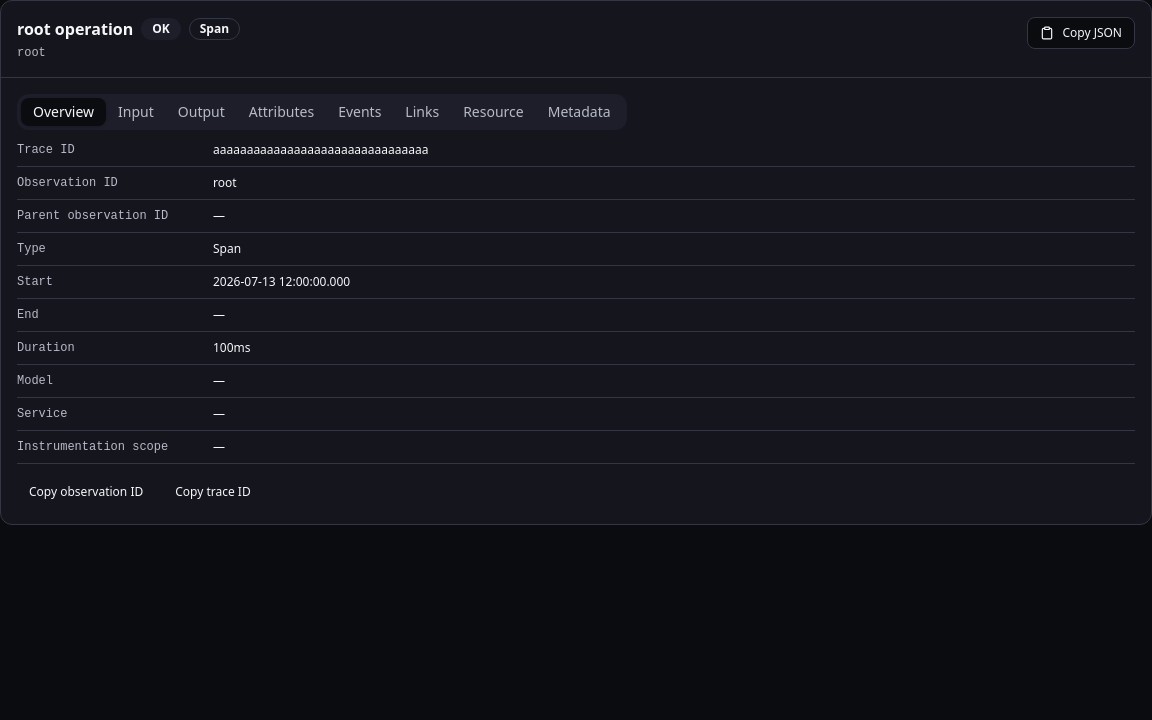
Test: ObservationDetailPanel JSON tree › renders event, link, and resource objects as expandable JSON
This screenshot has width=1152, height=720.
Click the tab "Events".
click(360, 112)  # box 326,98 -> 393,126
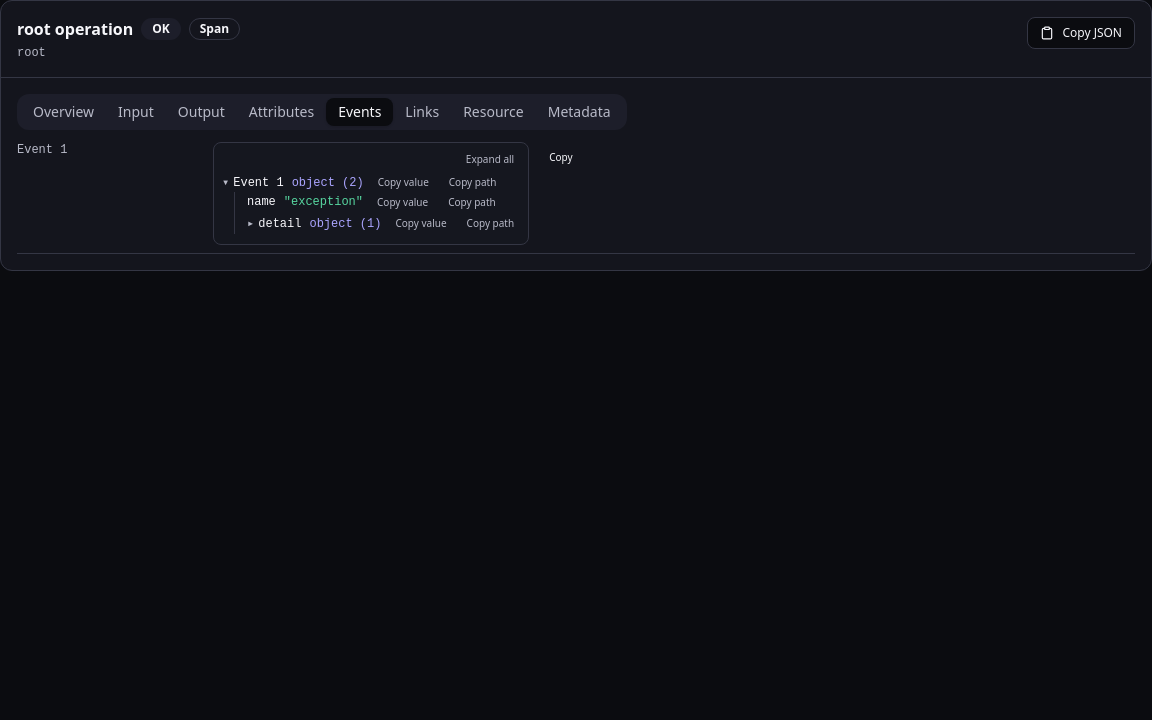
Click the button with aria-label "Expand $.detail".
click(274, 224)  # box 247,216 -> 302,232
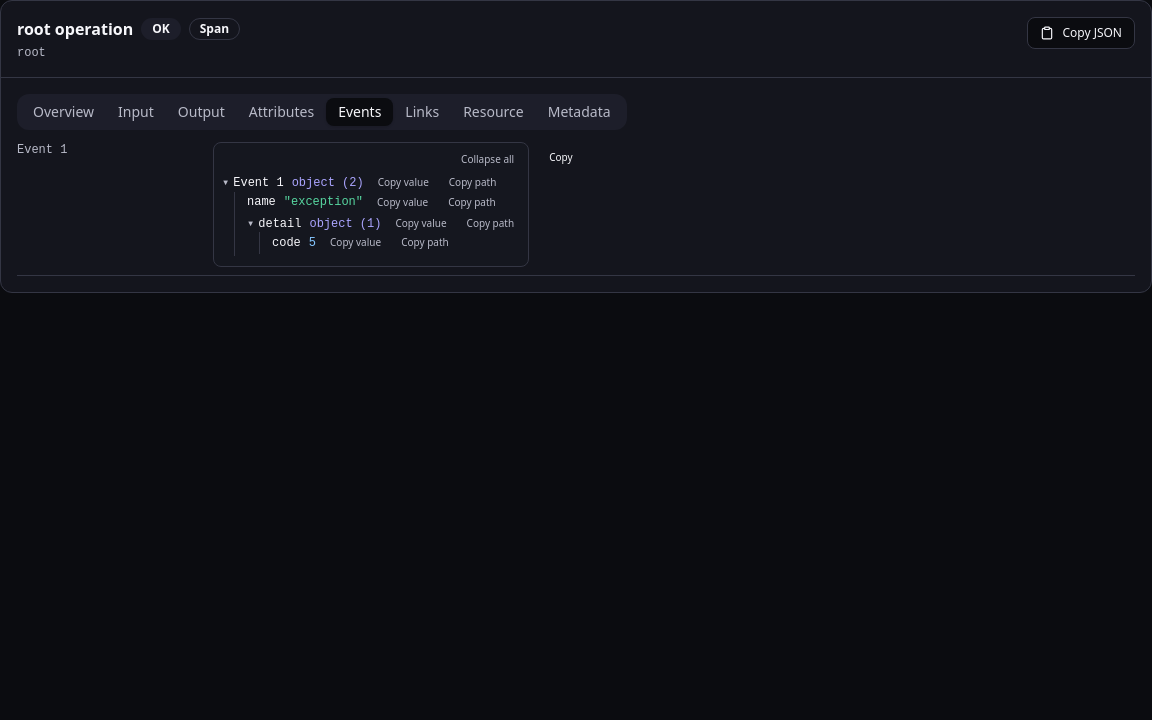
expect the text "5" is shown: met, box 309,235 -> 316,251
Click the tab "Links".
click(422, 112)  # box 393,98 -> 451,126
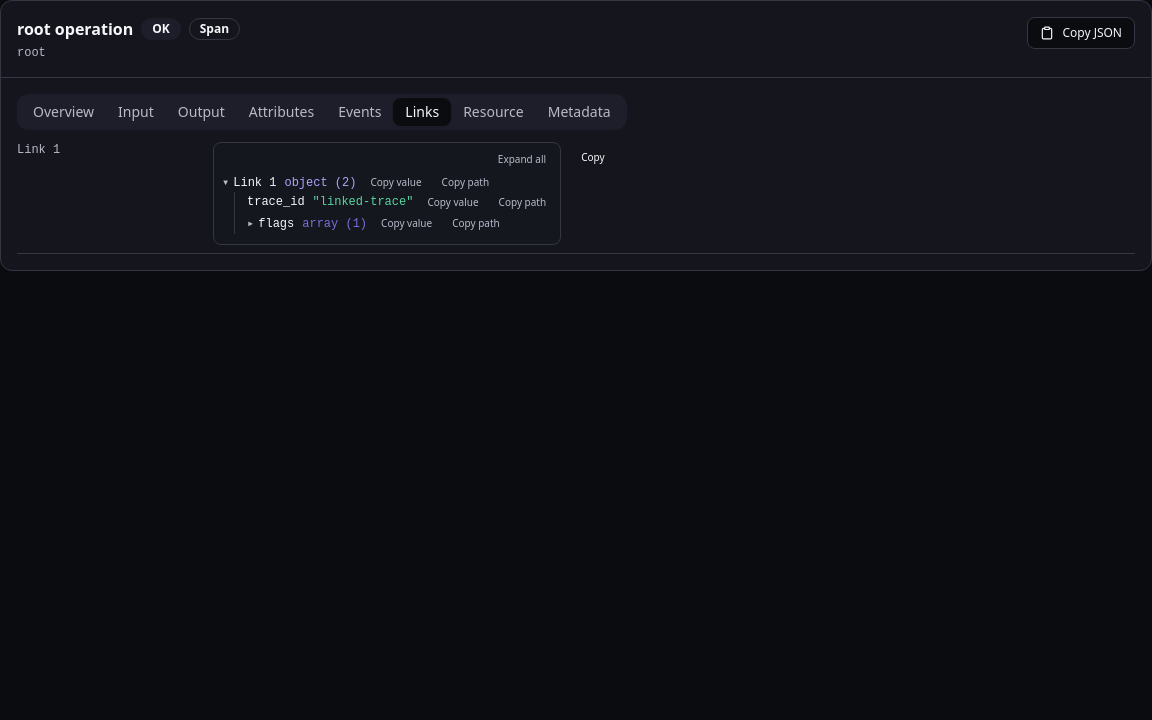
Click the button with aria-label "Expand $.flags".
click(271, 224)  # box 247,216 -> 294,232
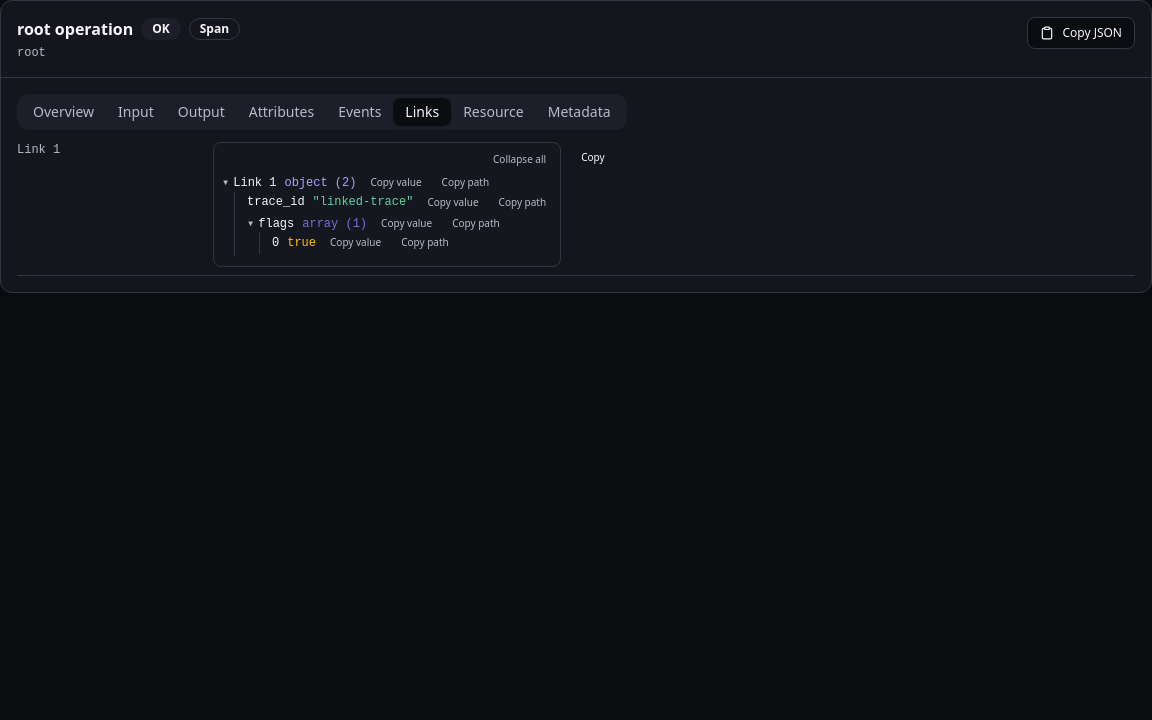
expect the text "true" is shown: met, box 287,235 -> 316,251
Click the tab "Resource".
click(494, 112)  # box 451,98 -> 536,126
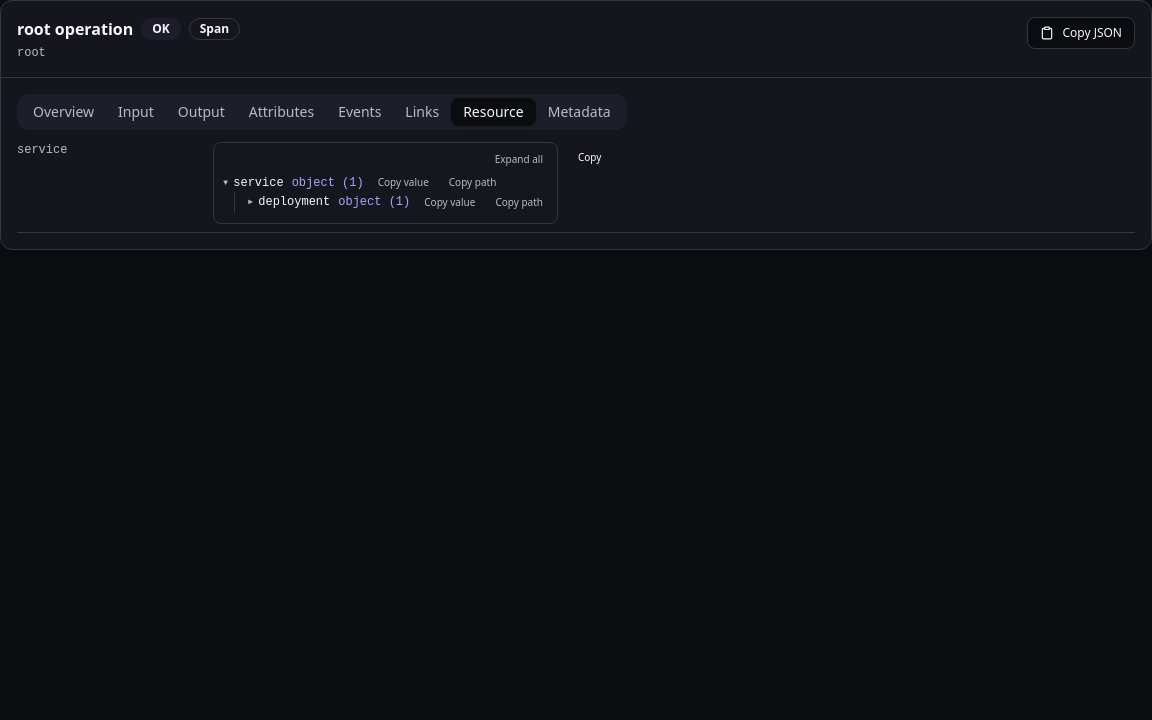
Click the button with aria-label "Expand $.deployment".
click(289, 202)  # box 247,194 -> 330,210
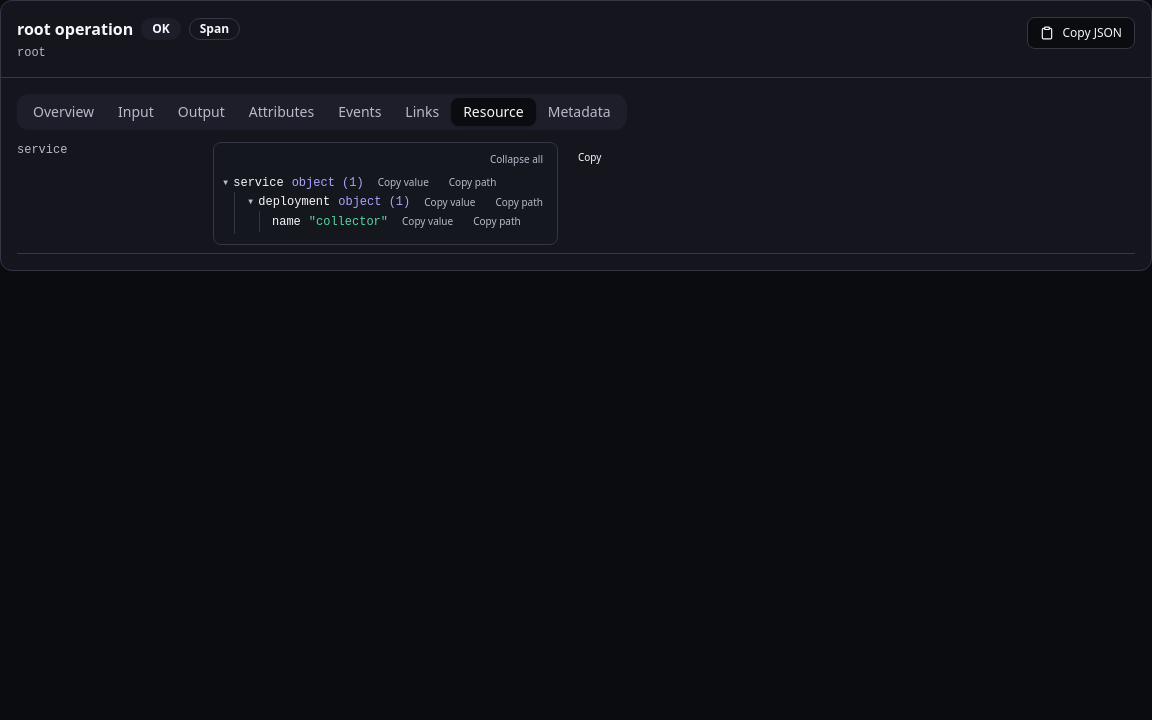
expect the panel shows "collector": met, box 309,215 -> 388,229
